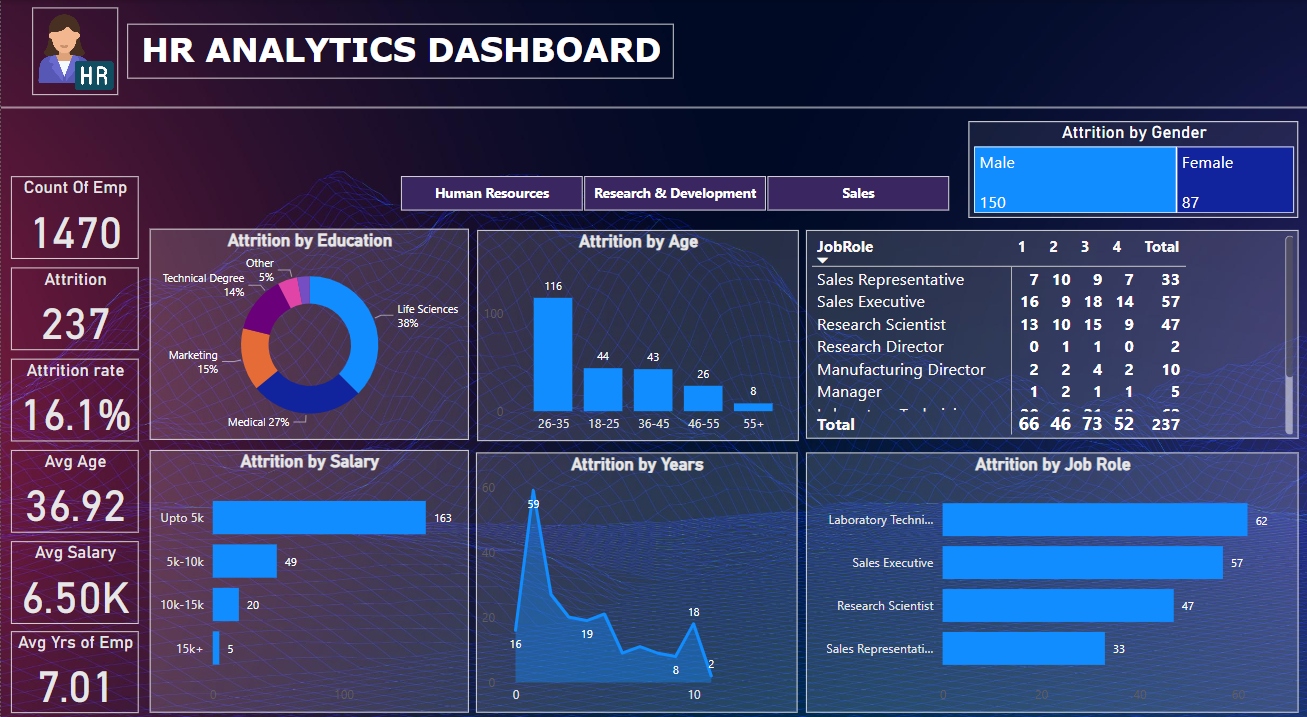

This screenshot's page, from the dashboard's own definition file:
{"tool":"powerbi","page":{"name":"Page 1","canvas":[1280,720],"ordinal":0},"visuals":[{"type":"textbox","box":[123.5,23.2,534.2,53.8],"z":0},{"type":"card","title":"Count Of Emp","fields":{"Values":["Sum(HR_Analytics.EmployeeCount)"]},"box":[9.8,172.4,124.7,80.7],"z":1000},{"type":"card","title":"Attrition","fields":{"Values":["Sum(HR_Analytics.AttritionCount)"]},"box":[9.8,261.6,124.7,80.7],"z":2000},{"type":"card","title":"Attrition rate","fields":{"Values":["HR_Analytics.Attritionrate"]},"box":[9.8,350.8,124.7,80.7],"z":3000},{"type":"card","title":"Avg Age","fields":{"Values":["Avg(HR_Analytics.Age)"]},"box":[9.8,440.1,124.7,80.7],"z":4000},{"type":"card","title":"Avg Salary","fields":{"Values":["Avg(HR_Analytics.MonthlyIncome)"]},"box":[9.8,529.3,124.7,80.7],"z":5000},{"type":"card","title":"Avg Yrs of Emp","fields":{"Values":["Avg(HR_Analytics.YearsAtCompany)"]},"box":[9.8,617.5,125,80],"z":6000},{"type":"donutChart","title":" Attrition by Education","fields":{"Category":["HR_Analytics.EducationField"],"Y":["Sum(HR_Analytics.AttritionCount)"]},"box":[145.5,223.7,311.7,206.6],"z":7000},{"type":"shape","box":[0,91.7,1281.1,26.9],"z":8000},{"type":"clusteredBarChart","title":" Attrition by Salary","fields":{"Category":["HR_Analytics.SalarySlab"],"Y":["Sum(HR_Analytics.AttritionCount)"]},"box":[145.5,440.1,311.7,256.7],"z":9000},{"type":"columnChart","title":"Attrition by Age","fields":{"Category":["HR_Analytics.AgeGroup"],"Y":["Sum(HR_Analytics.AttritionCount)"]},"box":[465.7,224.9,314.2,206.6],"z":10000},{"type":"areaChart","title":"Attrition by Years","fields":{"Category":["HR_Analytics.YearsAtCompany"],"Y":["Sum(HR_Analytics.AttritionCount)"]},"box":[464.5,442.5,314.2,254.3],"z":11000},{"type":"pivotTable","fields":{"Rows":["HR_Analytics.JobRole"],"Values":["Sum(HR_Analytics.AttritionCount)"],"Columns":["HR_Analytics.JobSatisfaction"]},"box":[787.2,224.9,481.6,204.1],"z":12000},{"type":"barChart","title":"Attrition by Job Role","fields":{"Category":["HR_Analytics.JobRole"],"Y":["Sum(HR_Analytics.AttritionCount)"]},"box":[787.2,442.5,481.6,254.3],"z":13000},{"type":"slicer","fields":{"Values":["HR_Analytics.Department"]},"box":[370.3,165.1,575.5,47.4],"z":14000},{"type":"treemap","title":"Attrition by Gender","fields":{"Group":["HR_Analytics.Gender"],"Values":["Sum(HR_Analytics.AttritionCount)"]},"box":[946.1,118.6,322.7,94.1],"z":15000},{"type":"image","box":[30.6,7.3,84.3,85.6],"z":16000}]}

Visuals, with their boxes in screenshot pixels (x1, y1, x2, y2), scaled from the page's 1280x720 canvas onto the 1307x717 screenshot:
textbox: 126/23/672/77
"Count Of Emp" card: 10/172/137/252
"Attrition" card: 10/261/137/341
"Attrition rate" card: 10/349/137/430
"Avg Age" card: 10/438/137/519
"Avg Salary" card: 10/527/137/607
"Avg Yrs of Emp" card: 10/615/138/695
" Attrition by Education" donutChart: 149/223/467/429
shape: 0/91/1306/118
" Attrition by Salary" clusteredBarChart: 149/438/467/694
"Attrition by Age" columnChart: 476/224/796/430
"Attrition by Years" areaChart: 474/441/795/694
pivotTable - HR_Analytics.JobRole x Sum(HR_Analytics.AttritionCount): 804/224/1296/427
"Attrition by Job Role" barChart: 804/441/1296/694
slicer - HR_Analytics.Department: 378/164/966/212
"Attrition by Gender" treemap: 966/118/1296/212
image: 31/7/117/93
